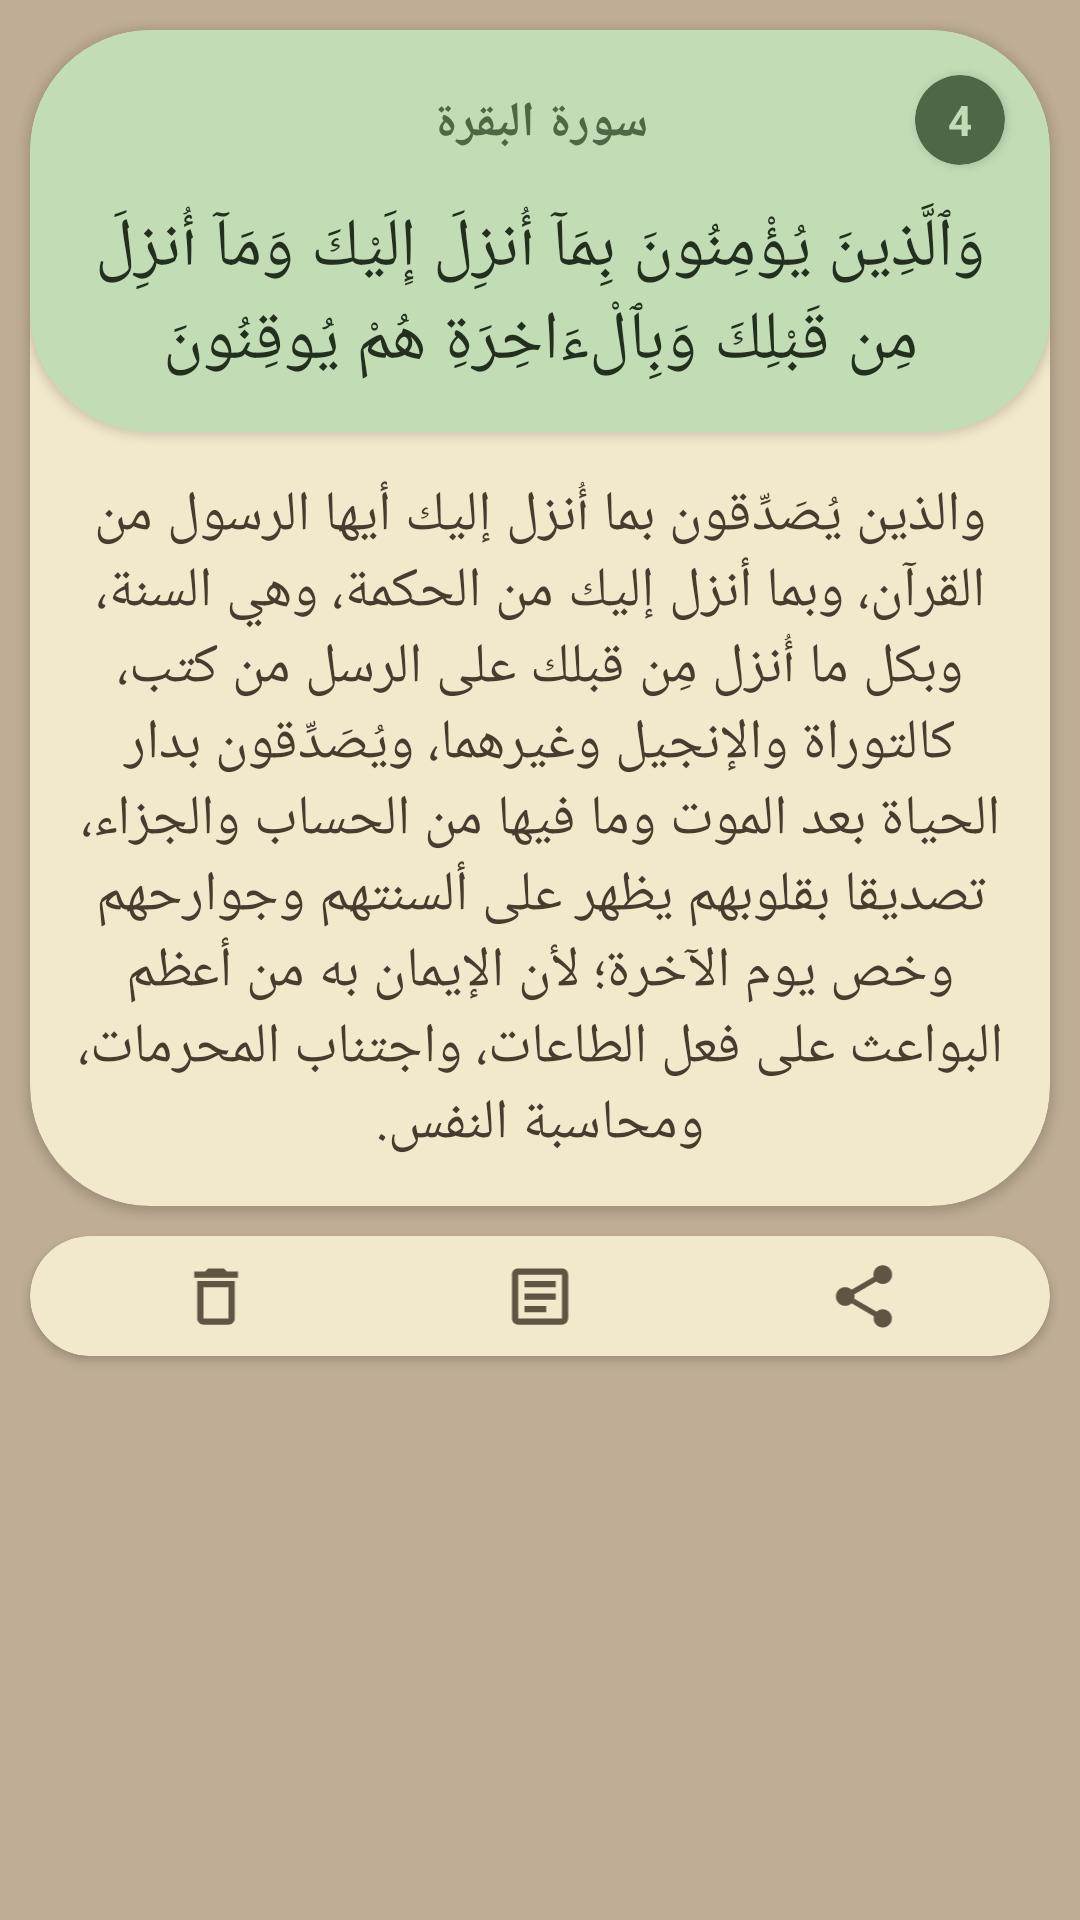

Point at icon controls on the screen. Image size 1080*1920, points as [x,y].
remove: [216,1296]
share: [864,1296]
tafsir: [540,1296]
